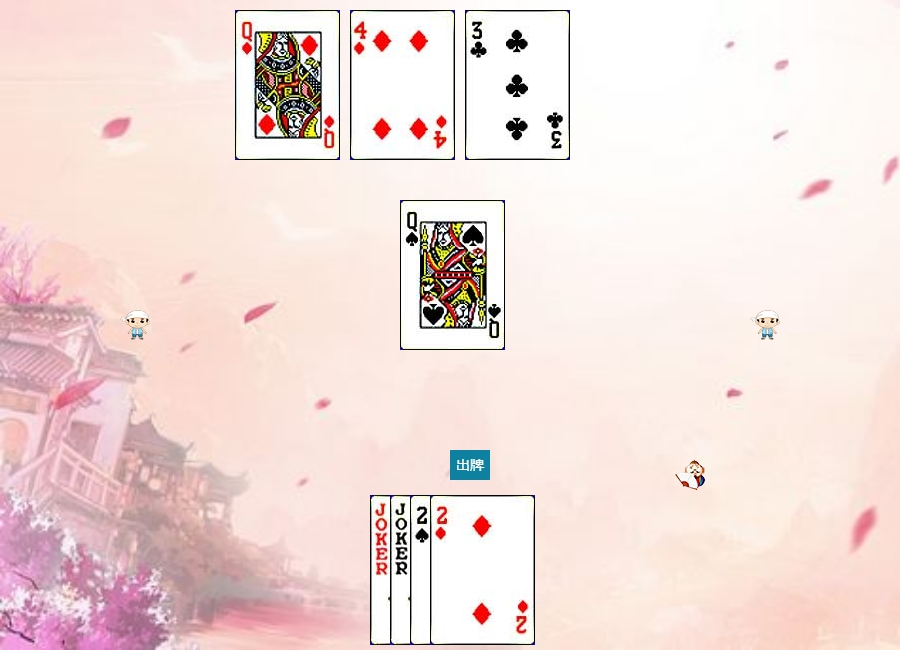12~1: (235, 10, 340, 160)
12~4: (400, 200, 505, 350)
15~1: (430, 495, 535, 645)
15~4: (410, 495, 515, 645)
17~3: (390, 495, 495, 645)
18~4: (370, 495, 475, 645)
3~2: (465, 10, 570, 160)
4~1: (350, 10, 455, 160)
